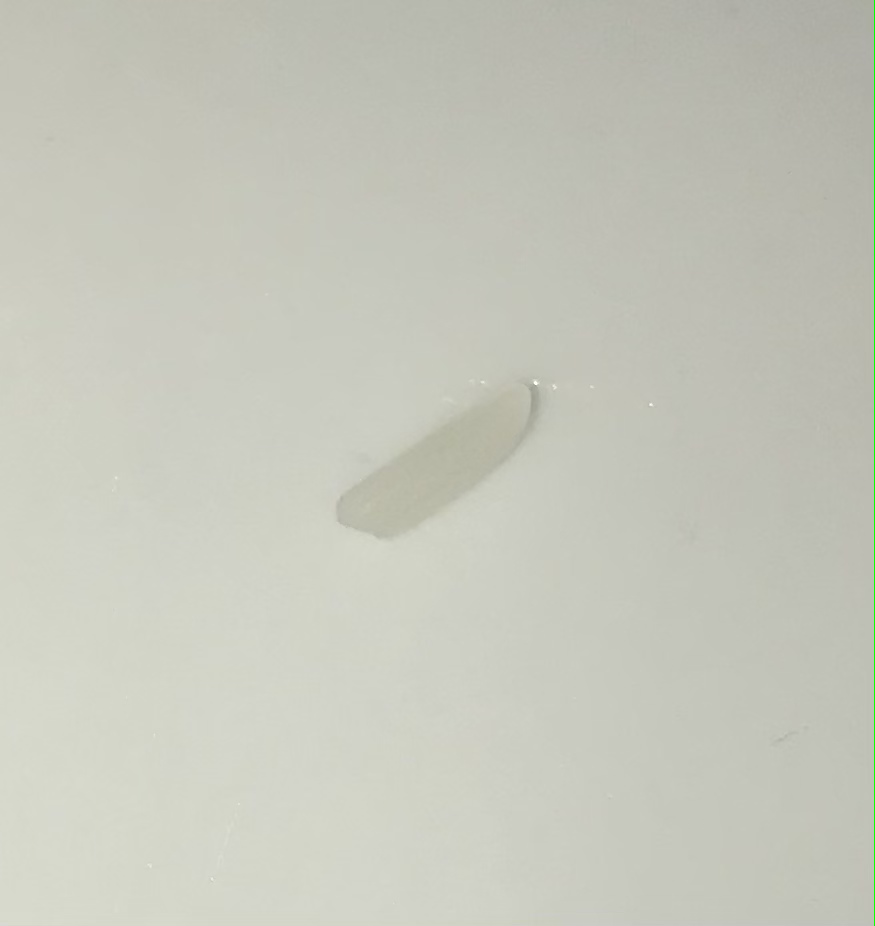Gao Thom Go Cong: (320, 365, 541, 569)
